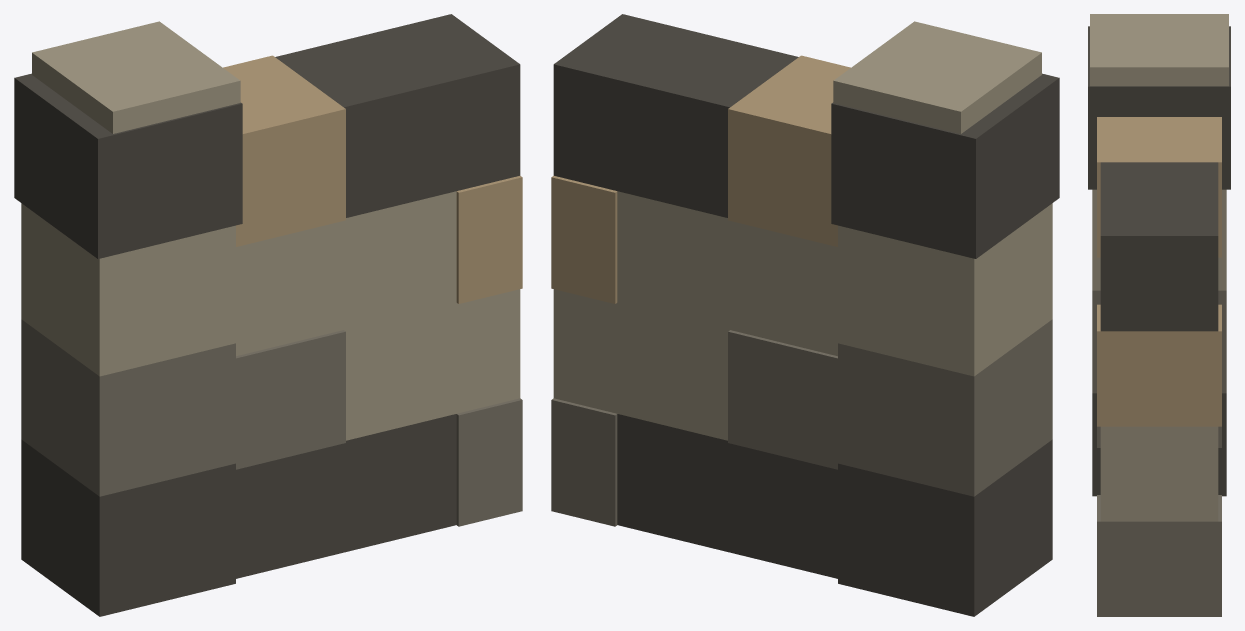
The model's file is TW_STONE_WALL_1M_B_LOD0.glb.
The picture shows the model from 3 angles, left to right: view 1: azimuth 30°, elevation 25°; view 2: azimuth 150°, elevation 25°; view 3: azimuth 270°, elevation 25°; orthographic projection. The views are drawn at different scales.
Parts seen in each view (by area): view 1: TW_STONE_WALL_1M_B_LOD0; view 2: TW_STONE_WALL_1M_B_LOD0; view 3: TW_STONE_WALL_1M_B_LOD0.
Part boxes in pixels (x1=…): TW_STONE_WALL_1M_B_LOD0: x1=14, y1=14, x2=522, y2=616; TW_STONE_WALL_1M_B_LOD0: x1=551, y1=14, x2=1059, y2=616; TW_STONE_WALL_1M_B_LOD0: x1=1088, y1=14, x2=1230, y2=616.
Size of the model in its own units: 1.01 by 1.13 by 0.34.
Materials: 1 (1 with a texture image).
